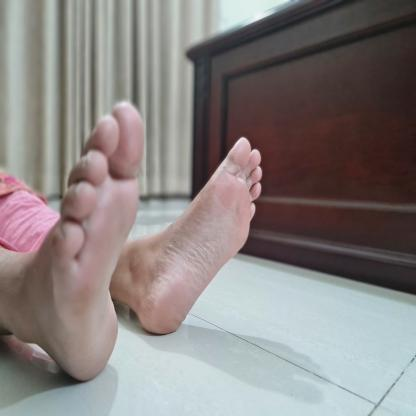leg: (0, 92, 154, 388), (119, 112, 268, 334)
